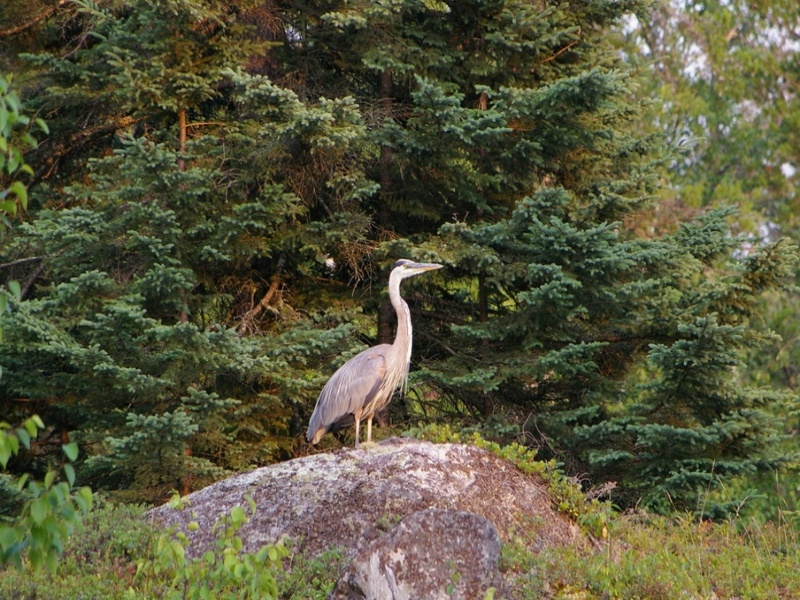heron: (305, 256, 441, 450)
